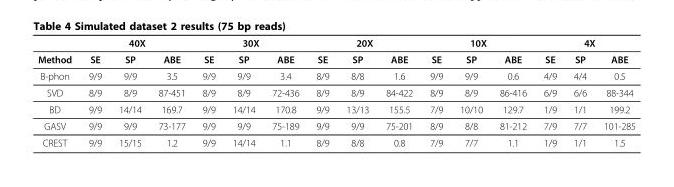table: (37, 36, 634, 147)
table column: (149, 36, 193, 147), (376, 36, 420, 147), (490, 36, 534, 147), (263, 36, 306, 147), (37, 36, 79, 147), (109, 36, 149, 147), (223, 36, 263, 147), (450, 36, 490, 147), (594, 36, 634, 147), (337, 36, 376, 147), (306, 36, 337, 147), (79, 36, 109, 147), (193, 36, 223, 147), (420, 36, 450, 147), (534, 36, 564, 147), (564, 36, 594, 147)
table column header: (37, 36, 634, 67)
table row: (37, 50, 634, 67), (37, 67, 634, 84), (37, 100, 634, 117), (37, 117, 634, 134), (37, 84, 634, 100), (37, 36, 634, 50), (37, 134, 634, 147)
table spanning cell: (79, 36, 193, 50), (306, 36, 420, 50), (420, 36, 534, 50), (193, 36, 306, 50), (534, 36, 634, 50), (37, 36, 79, 67)
